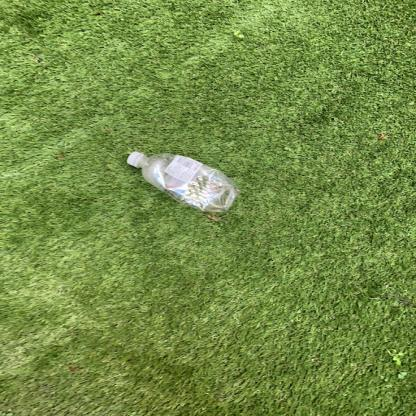trash: (122, 150, 236, 225)
